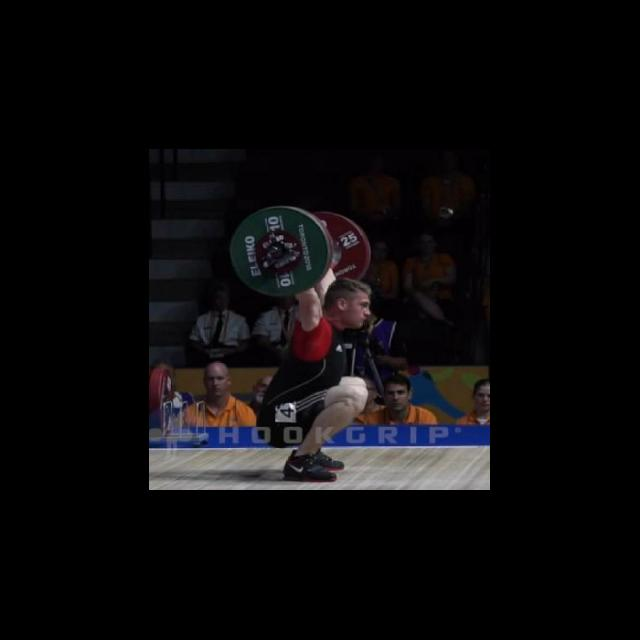barbell: (228, 204, 331, 300)
